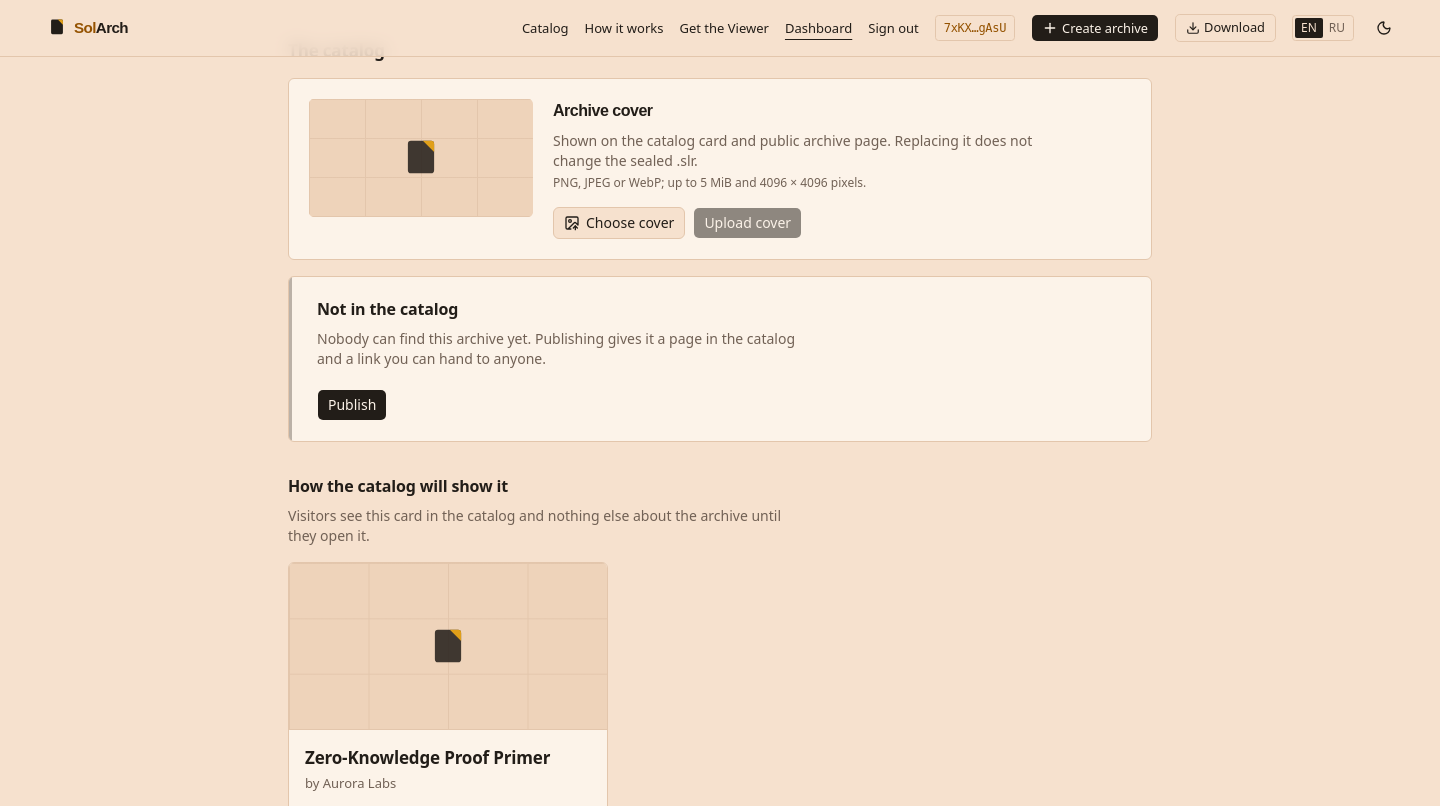
Test: витрина архива › публикует собранный архив и отдаёт публичную ссылку
(page scrolled)
Expected: the heading "Not in the catalog" is shown, [317,298,458,320]
What coordinates should you click on to do the following:
click the button "Publish"
I would click on:
 (352, 405)
Its box is [317,389,387,421].
(page scrolled)
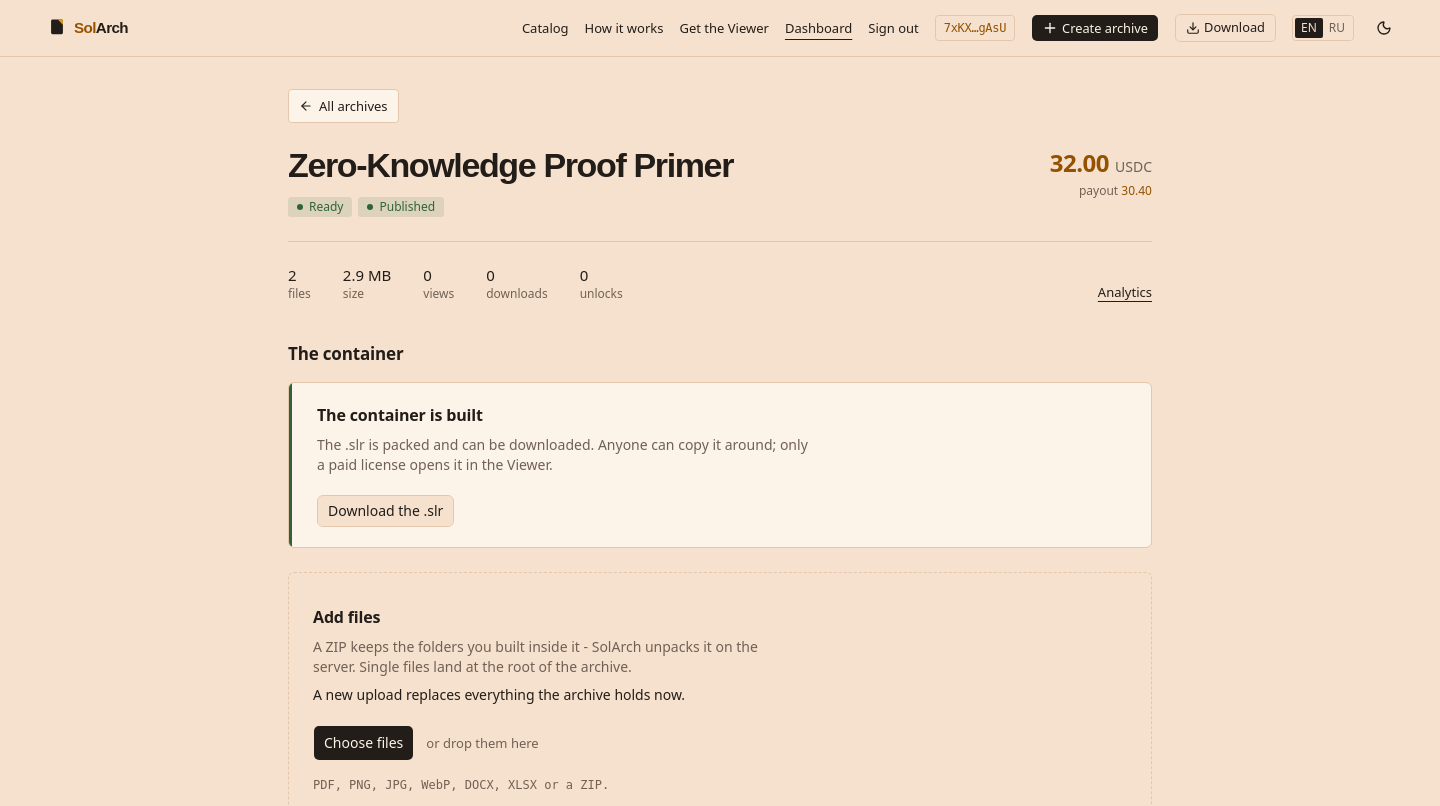
Expected: the text "Published" is shown, [358,196,444,216]
